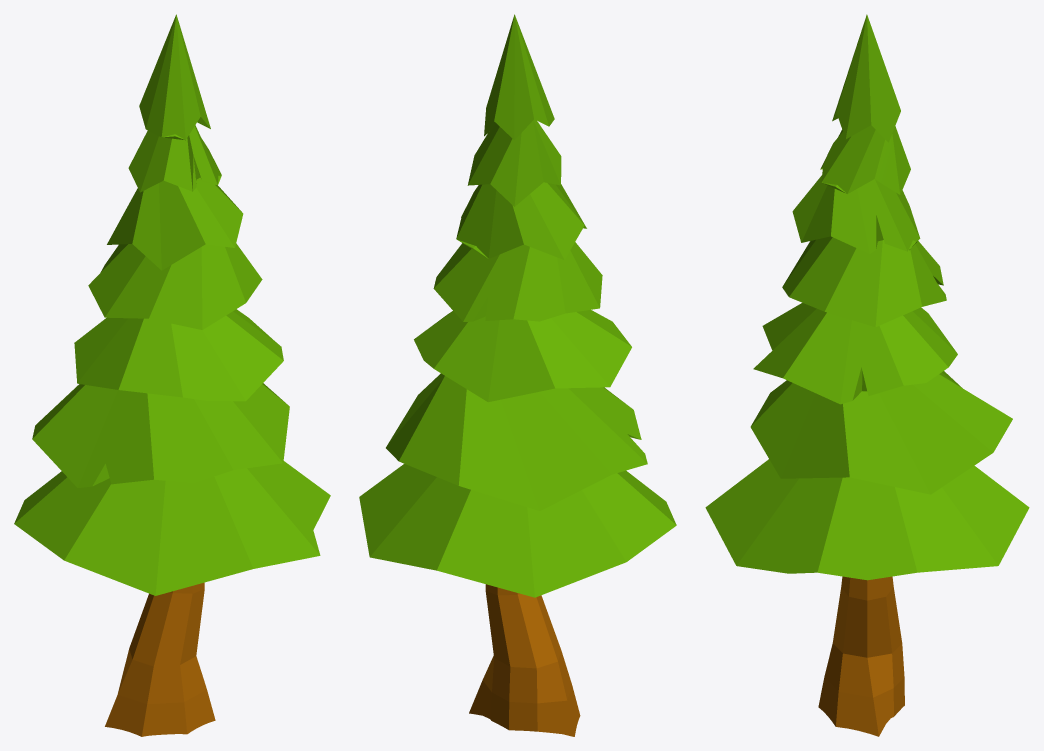
File: tree4ashoka.glb
The picture shows the model from 3 angles, left to right: view 1: azimuth 30°, elevation 25°; view 2: azimuth 150°, elevation 25°; view 3: azimuth 270°, elevation 25°; orthographic projection.
Parts seen in each view (by area): view 1: Cylinder; view 2: Cylinder; view 3: Cylinder.
Boxes of the visible parts, x1,y1,x2,y2 form: Cylinder: (14, 14, 330, 736); Cylinder: (359, 14, 676, 736); Cylinder: (705, 14, 1029, 736).
Size of the model in its own units: 3.2 by 8.05 by 3.36.
